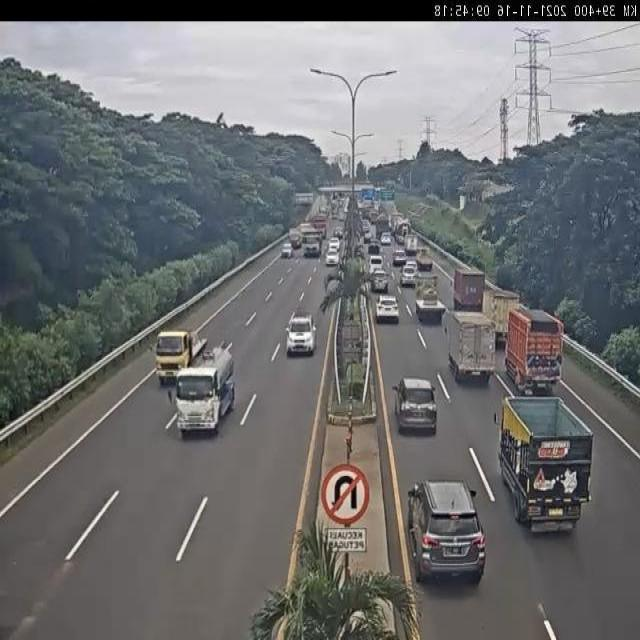Car: (406, 479, 486, 583), (393, 376, 438, 434), (285, 311, 317, 356), (374, 294, 399, 323), (371, 269, 388, 293), (401, 265, 417, 287), (392, 248, 407, 266), (325, 248, 340, 266), (328, 237, 341, 253), (280, 242, 292, 258), (380, 230, 391, 247), (368, 240, 380, 255), (334, 227, 344, 240), (364, 231, 373, 243)
Truck: (500, 394, 593, 530), (165, 345, 238, 435), (505, 306, 564, 395), (444, 309, 496, 386), (153, 331, 211, 389), (482, 288, 522, 344), (414, 274, 445, 322), (453, 268, 486, 312), (301, 229, 323, 259), (375, 213, 391, 241), (414, 244, 432, 268), (312, 215, 327, 240), (395, 217, 412, 239), (404, 233, 419, 256), (288, 227, 303, 248)
Van: (368, 254, 384, 275)
